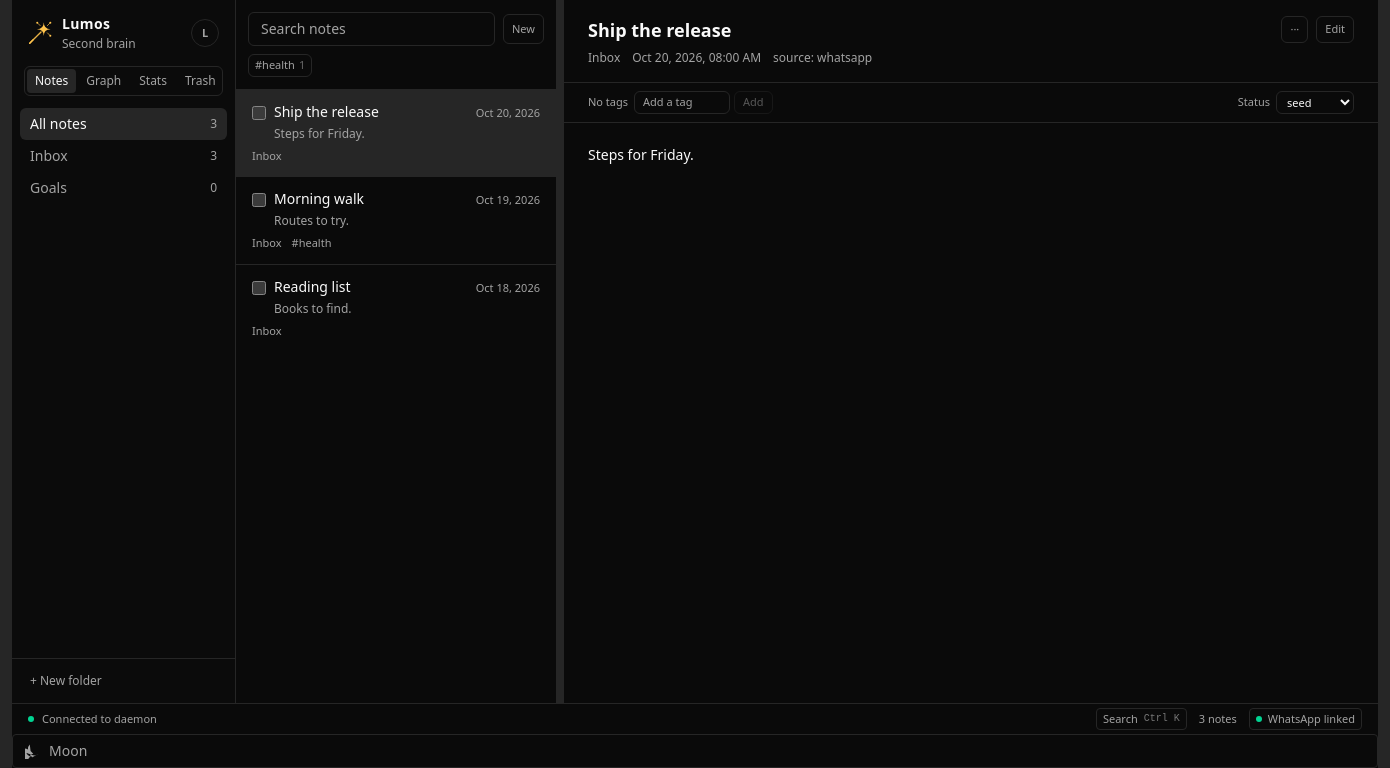
bulk actions › archives exactly the selected notes, and says so
Expected: the search field with placeholder "Search notes" is shown, [248, 12, 495, 46]
Click the checkbox named "Select Ship the release" at coordinates (259, 112), box [252, 106, 266, 120]
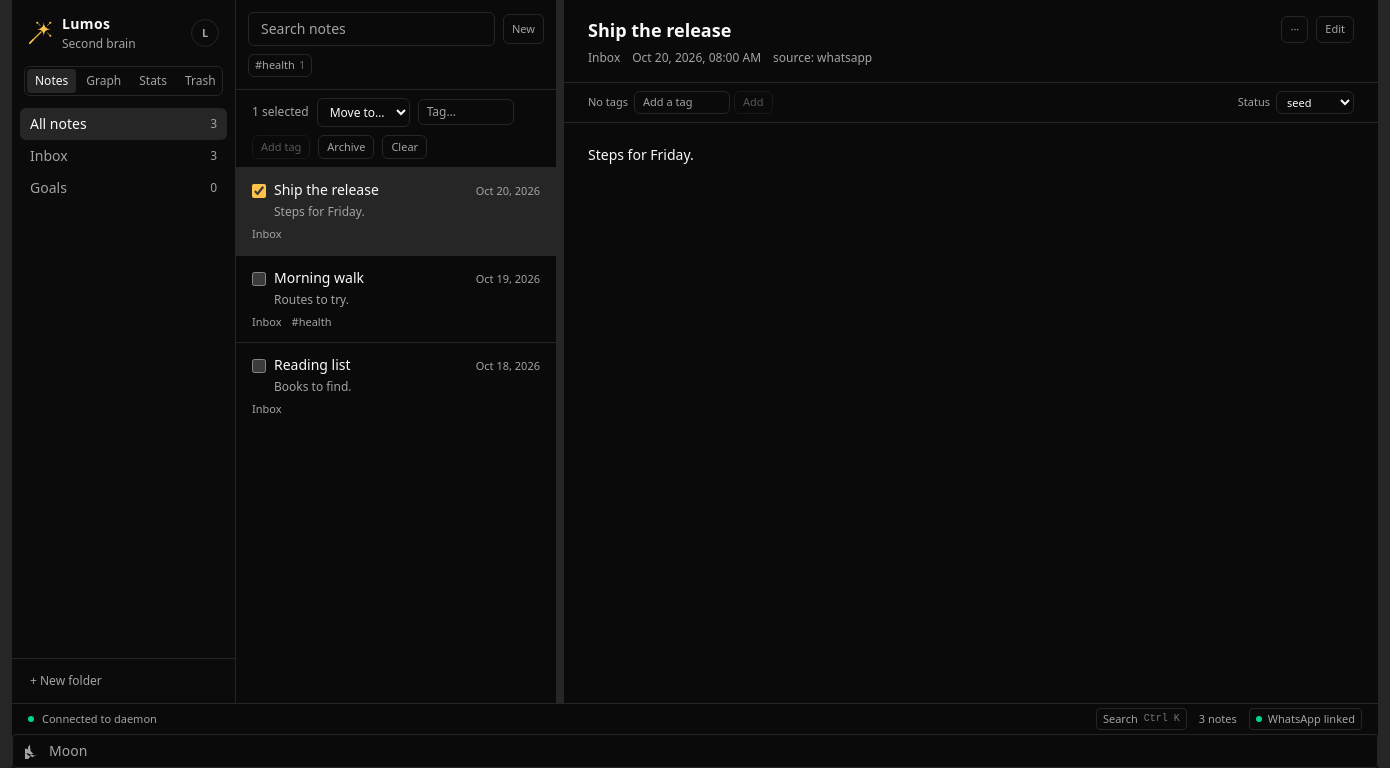
Click the checkbox named "Select Reading list" at coordinates (259, 366), box [252, 359, 266, 373]
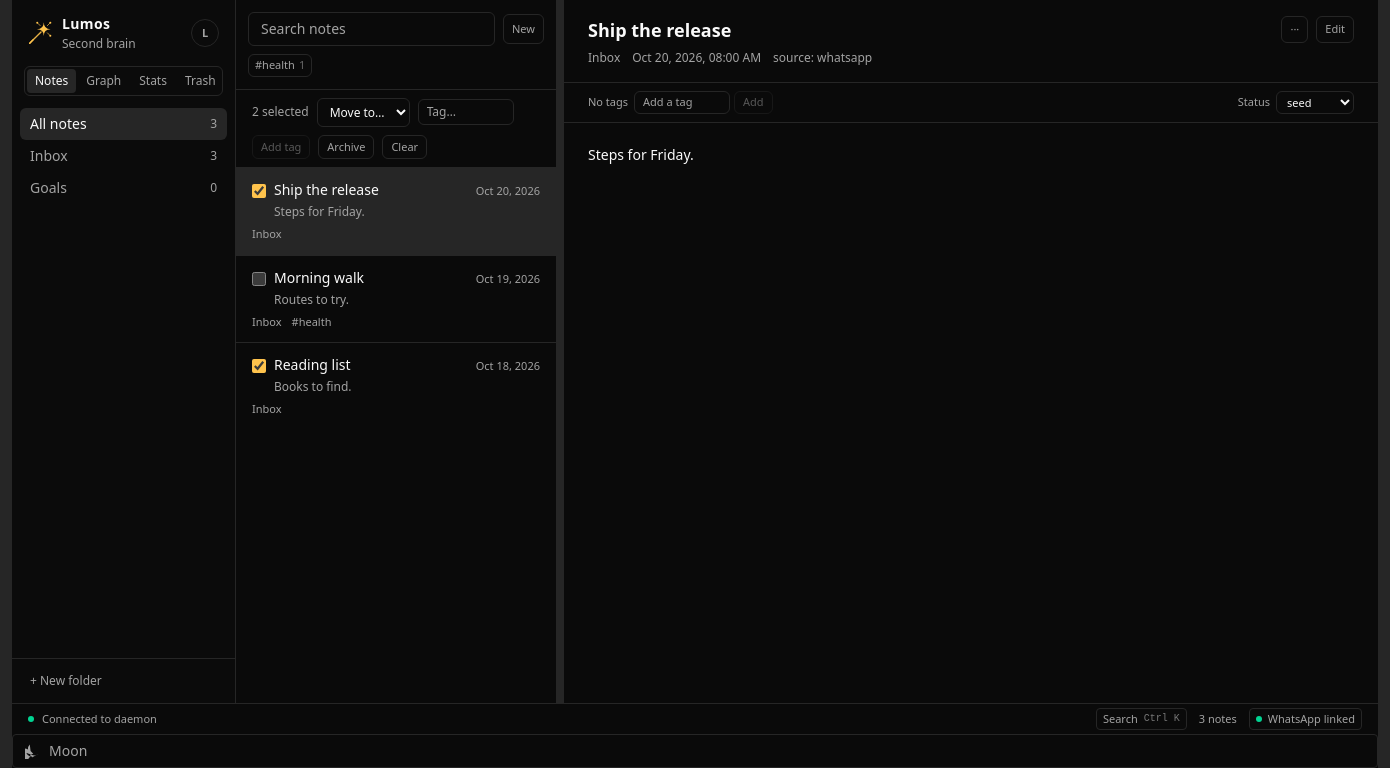
Result: the text "2 selected" is shown at [252, 104, 309, 120]
Click the button "Archive" at coordinates (346, 147), box [318, 134, 374, 159]
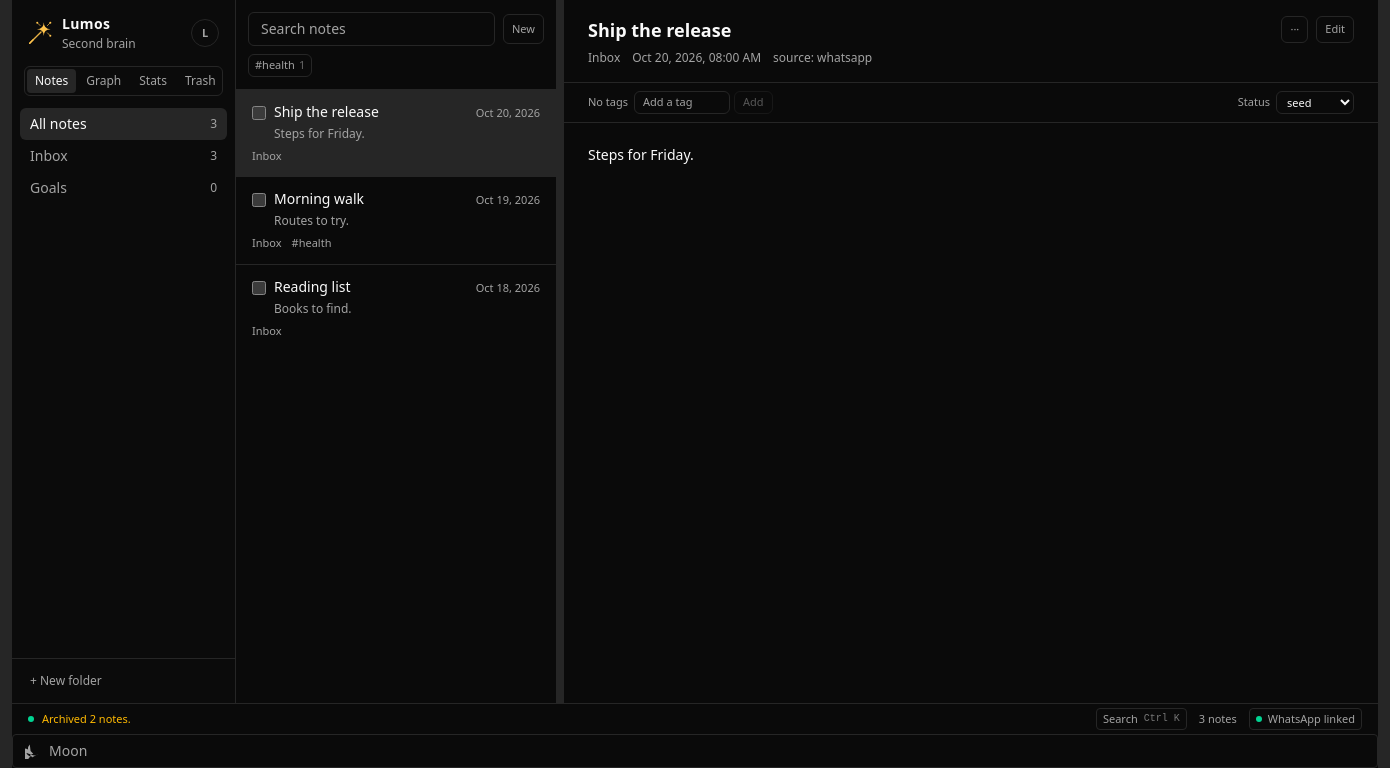
Result: the button "Archived 2 notes." is shown at [42, 710, 131, 727]
Result: the text "2 selected" is gone
